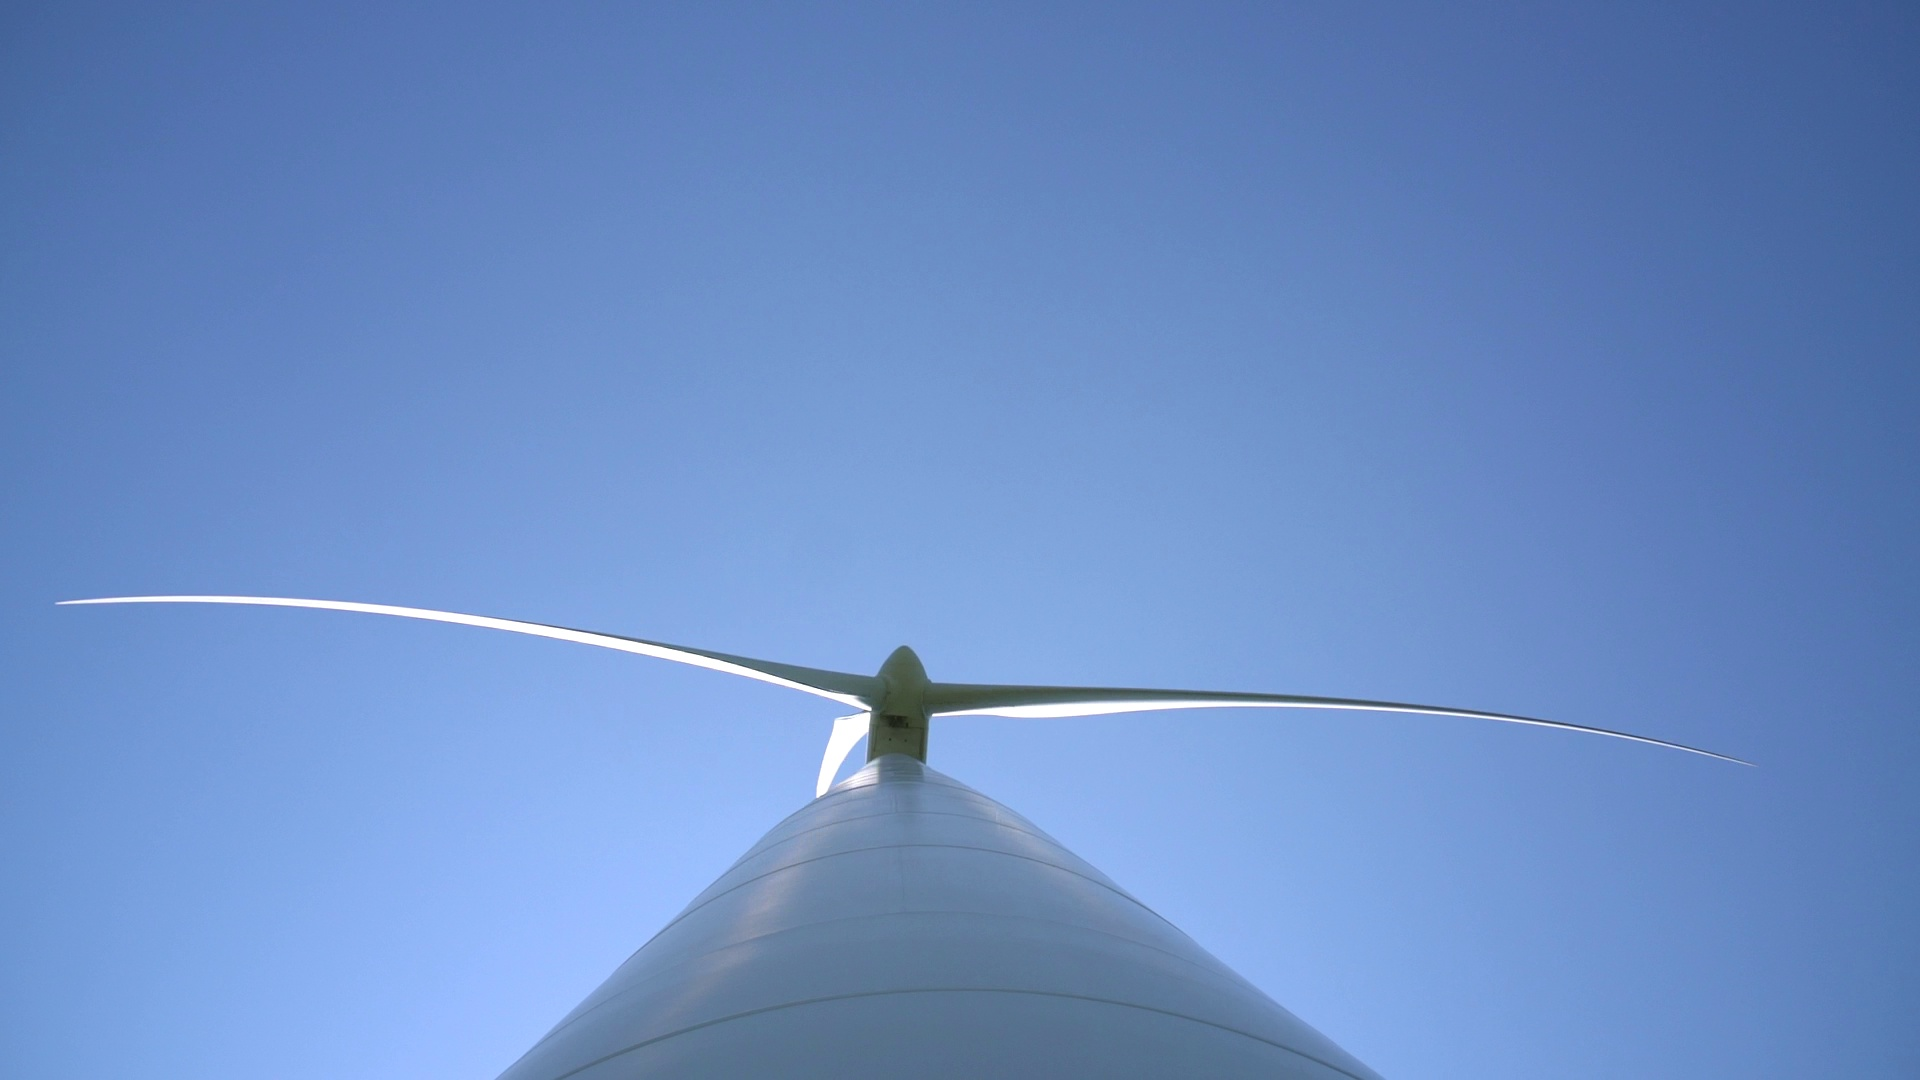turbine: (40, 571, 881, 728), (930, 644, 1783, 794), (793, 694, 880, 794)
